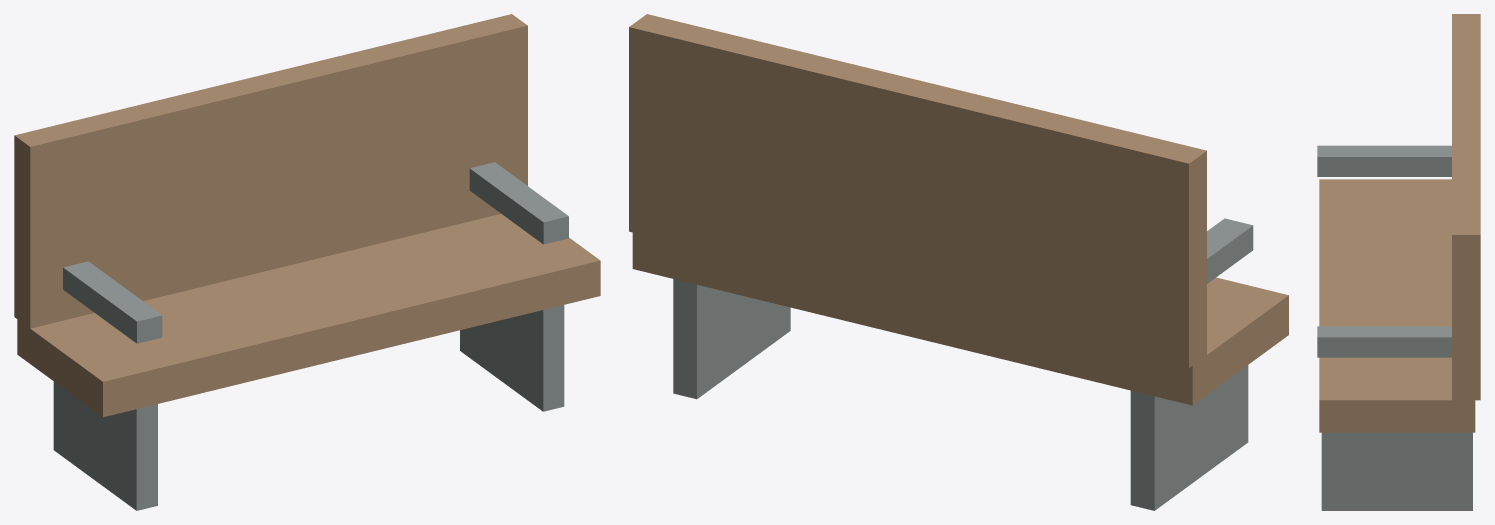
Rendered from town_bench.glb.
3 views of the same model, side by side, from view 1: azimuth 30°, elevation 25°; view 2: azimuth 150°, elevation 25°; view 3: azimuth 270°, elevation 25° (orthographic). The views are drawn at different scales.
Parts seen in each view (by area): view 1: timber bench back, timber bench seat, bench supports, bench supports.001, bench arms, bench arms.001; view 2: timber bench back, timber bench seat, bench supports, bench supports.001, bench arms; view 3: timber bench seat, bench supports.001, timber bench back, bench arms, bench arms.001.
Part boxes in pixels (left/top/right/bottom): timber bench back: left=14, top=14, right=527, bottom=328; timber bench seat: left=17, top=213, right=600, bottom=417; bench supports: left=53, top=381, right=157, bottom=510; bench supports.001: left=460, top=305, right=564, bottom=411; bench arms: left=63, top=261, right=162, bottom=343; bench arms.001: left=469, top=162, right=568, bottom=244; timber bench back: left=629, top=14, right=1206, bottom=367; timber bench seat: left=632, top=232, right=1288, bottom=405; bench supports: left=1130, top=365, right=1248, bottom=510; bench supports.001: left=673, top=279, right=790, bottom=399; bench arms: left=1207, top=218, right=1253, bottom=283; timber bench seat: left=1319, top=179, right=1475, bottom=432; bench supports.001: left=1321, top=432, right=1472, bottom=510; timber bench back: left=1452, top=14, right=1480, bottom=400; bench arms: left=1317, top=145, right=1451, bottom=176; bench arms.001: left=1317, top=326, right=1451, bottom=357.
Bounding box in the file's own units: 2.35 × 1.45 × 0.735.
